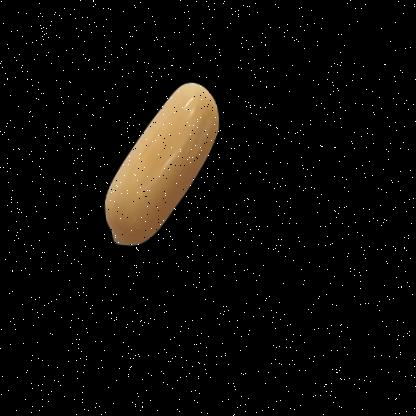t-muse: (83, 50, 240, 274)
